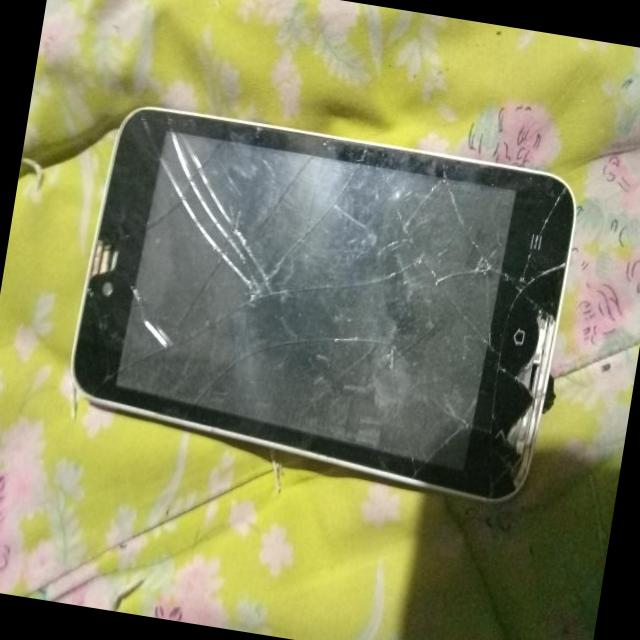screen crack: (73, 98, 578, 494)
